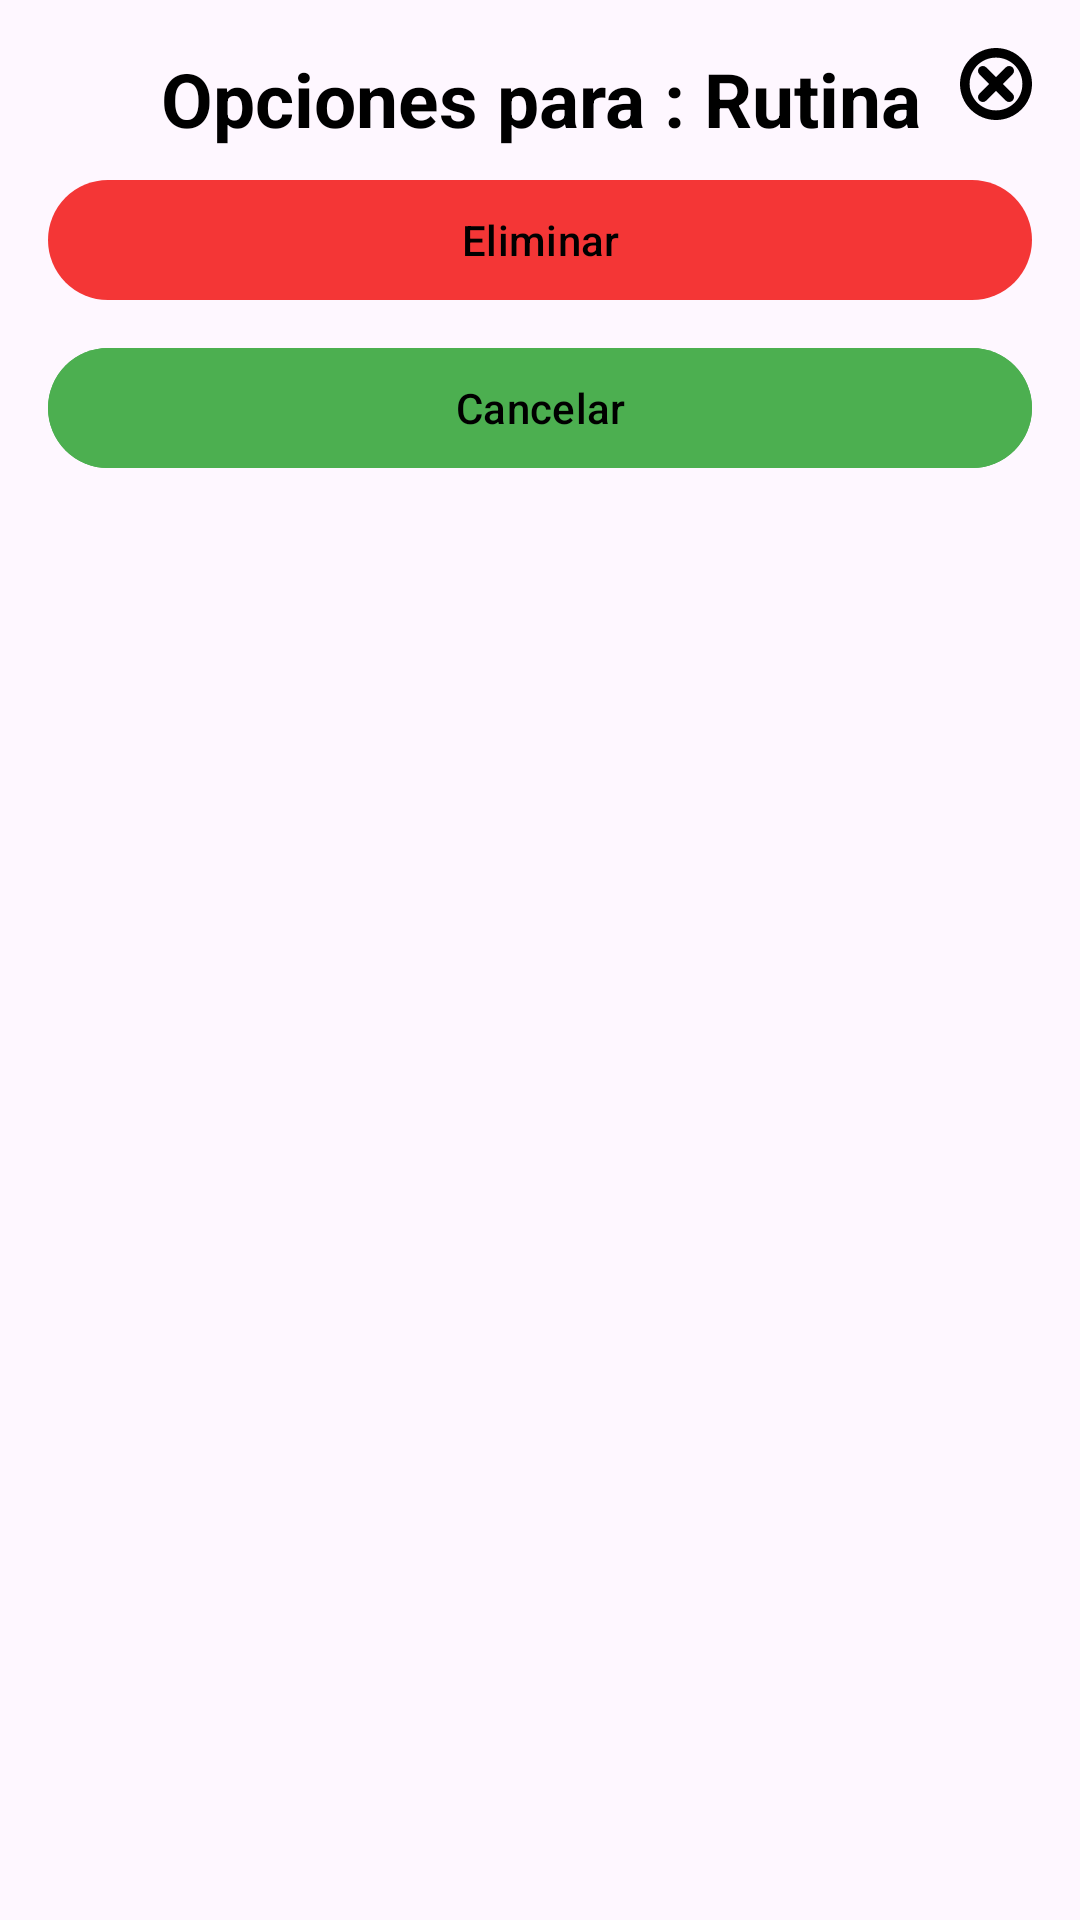

Where icons sit on this 1080 × 1920 app screen, as (x1=x1, y1=y1, x2=x2, y2=y2):
cancelar: (x1=960, y1=48, x2=1032, y2=120)
